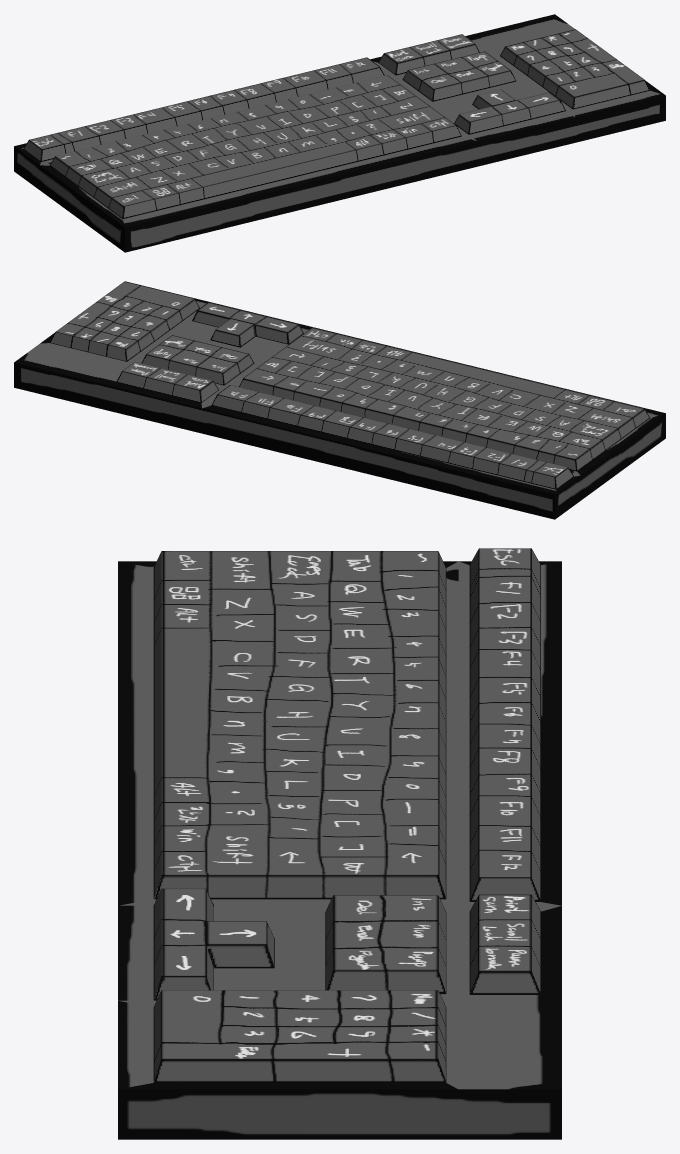
Rendered from keyboard.FBX.
3 renders of one model, top to bottom at view 1: azimuth 30°, elevation 25°; view 2: azimuth 150°, elevation 25°; view 3: azimuth 270°, elevation 25°, orthographic. The views are drawn at different scales.
Parts seen in each view (by area): view 1: Box001; view 2: Box001; view 3: Box001.
Part boxes in pixels (x1=…): Box001: x1=14, y1=14, x2=665, y2=252; Box001: x1=14, y1=281, x2=665, y2=519; Box001: x1=118, y1=548, x2=561, y2=1139.
Size of the model in its own units: 17.72 by 1.11 by 6.3.
